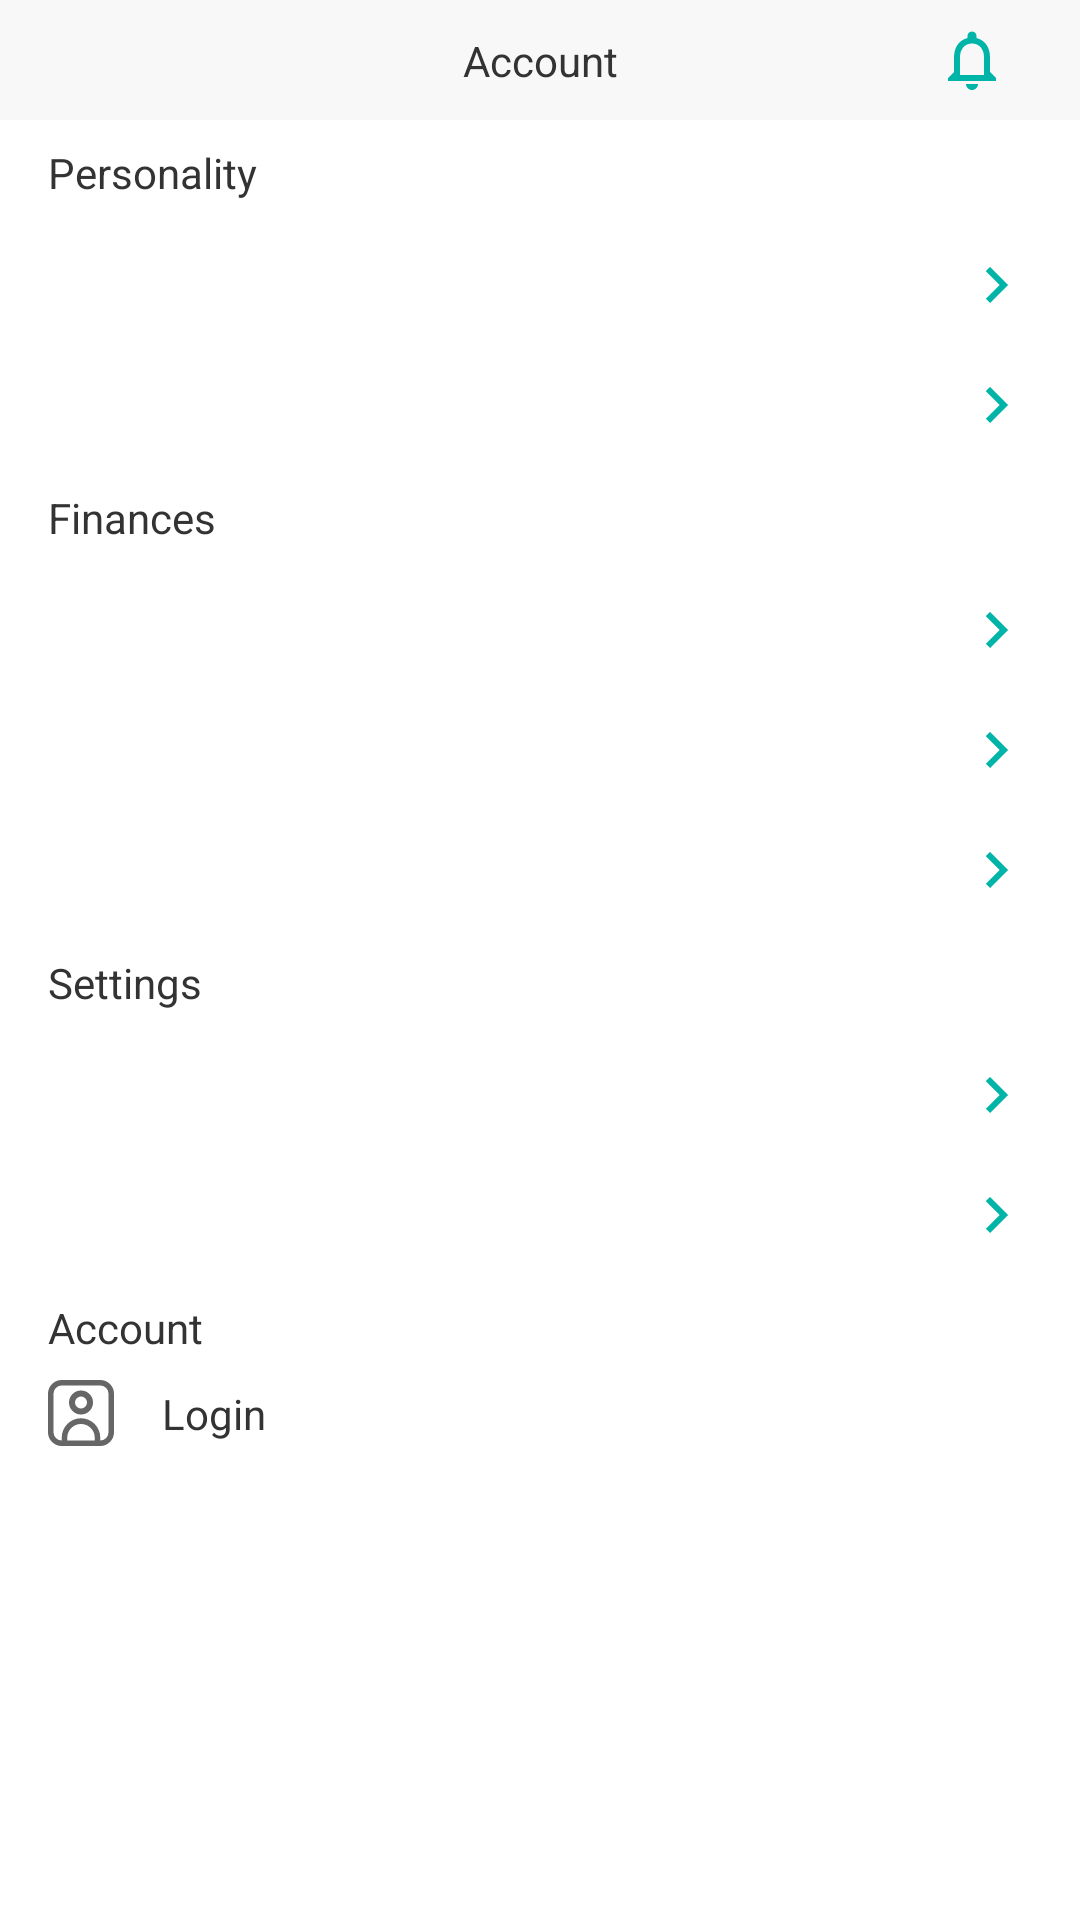

Icon click points for this 1080 × 1920 phone screenshot, format [x,y]:
keyboard arrow right: [997,285], [997,405], [997,630], [997,750], [997,870], [997,1095], [997,1215]
notifications none: [972,60]
